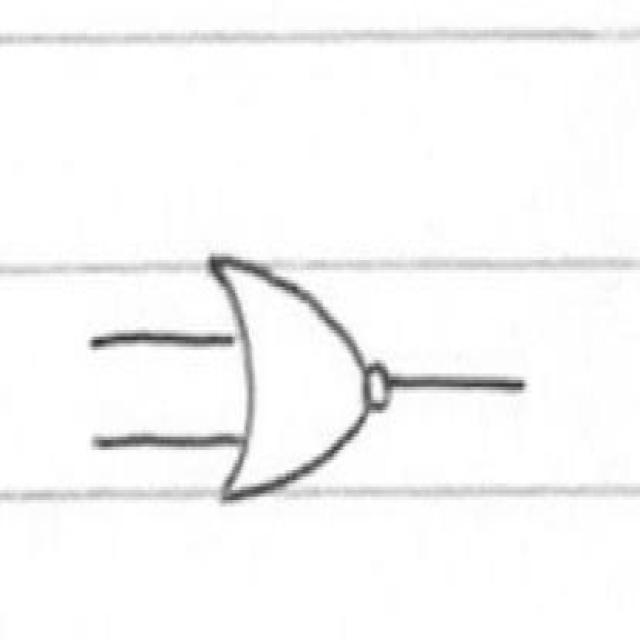NOR: (200, 228, 410, 553)
